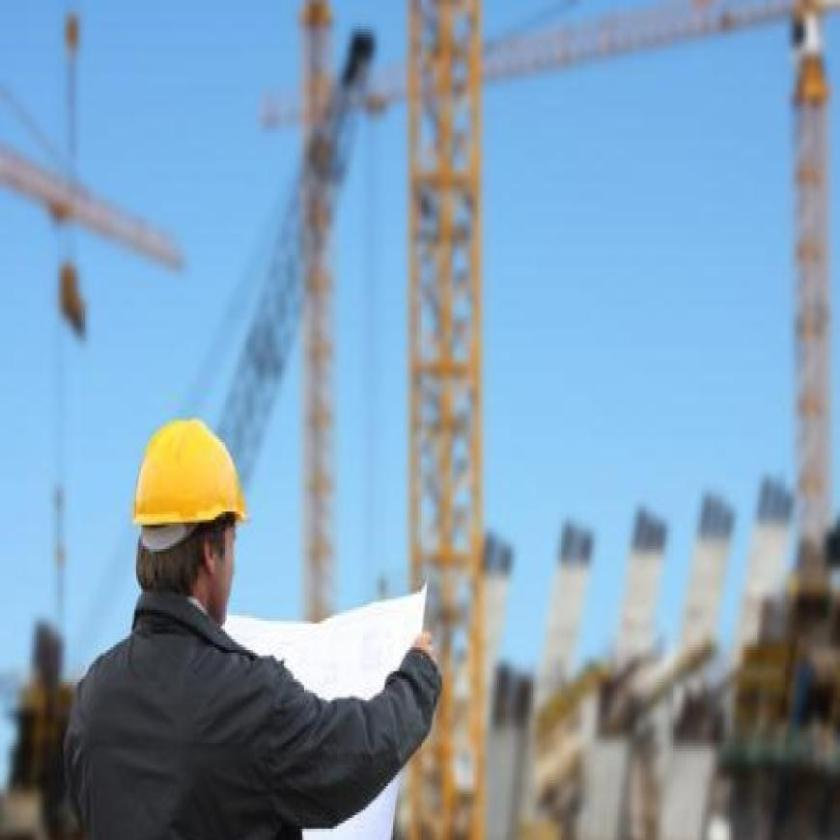Con_casco: (122, 408, 257, 648)
